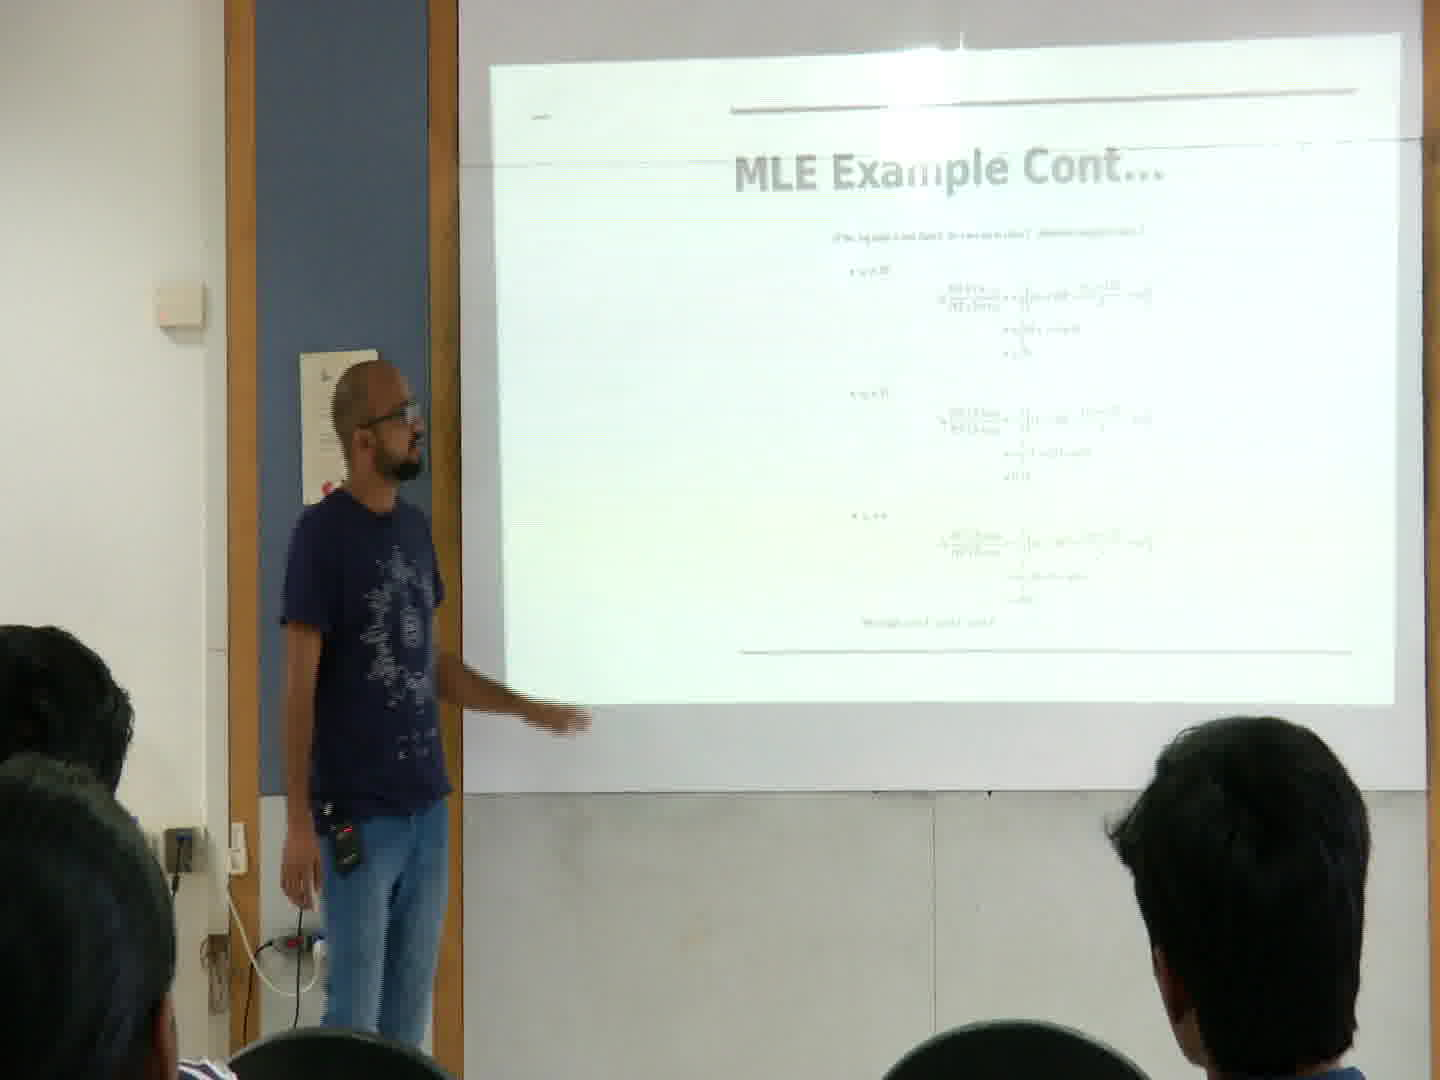eq: (926, 272, 1161, 369), (927, 398, 1157, 493), (931, 518, 1164, 611)
